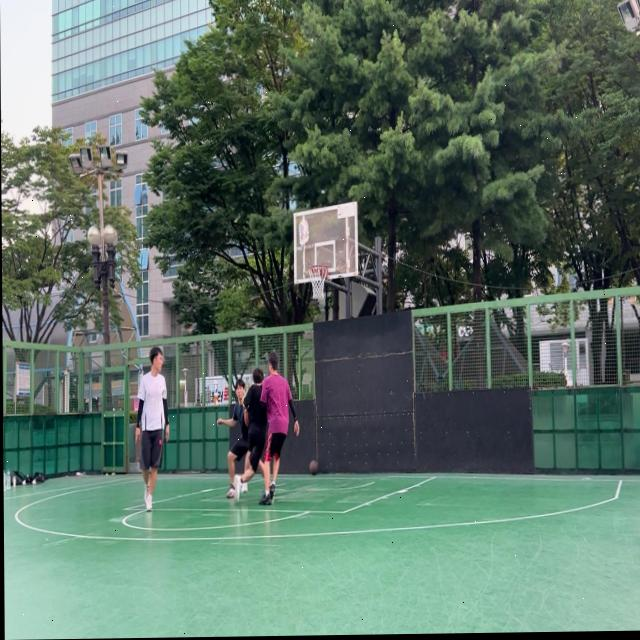basketball: (309, 460, 319, 476), (244, 411, 249, 427)
hoop: (308, 263, 328, 299)
